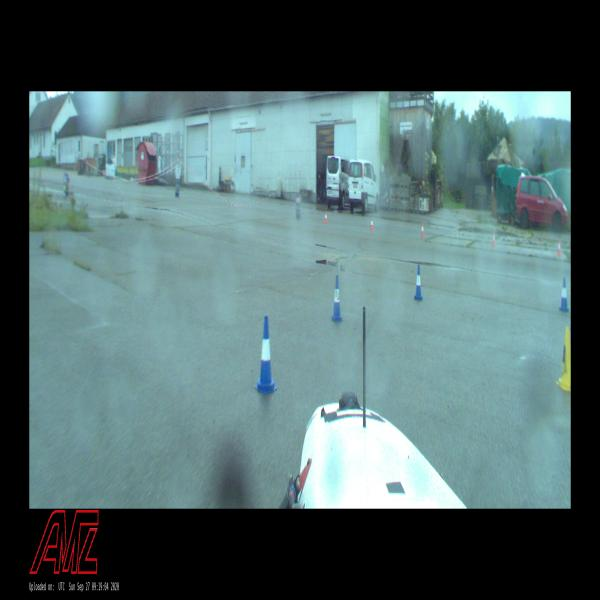blue_cone: (255, 315, 278, 394), (330, 275, 344, 322), (559, 277, 569, 311), (414, 266, 423, 300)
orange_cone: (557, 240, 562, 256), (492, 231, 496, 246), (324, 212, 328, 224), (370, 219, 374, 230), (421, 224, 424, 236)
yellow_cone: (556, 328, 570, 393)
